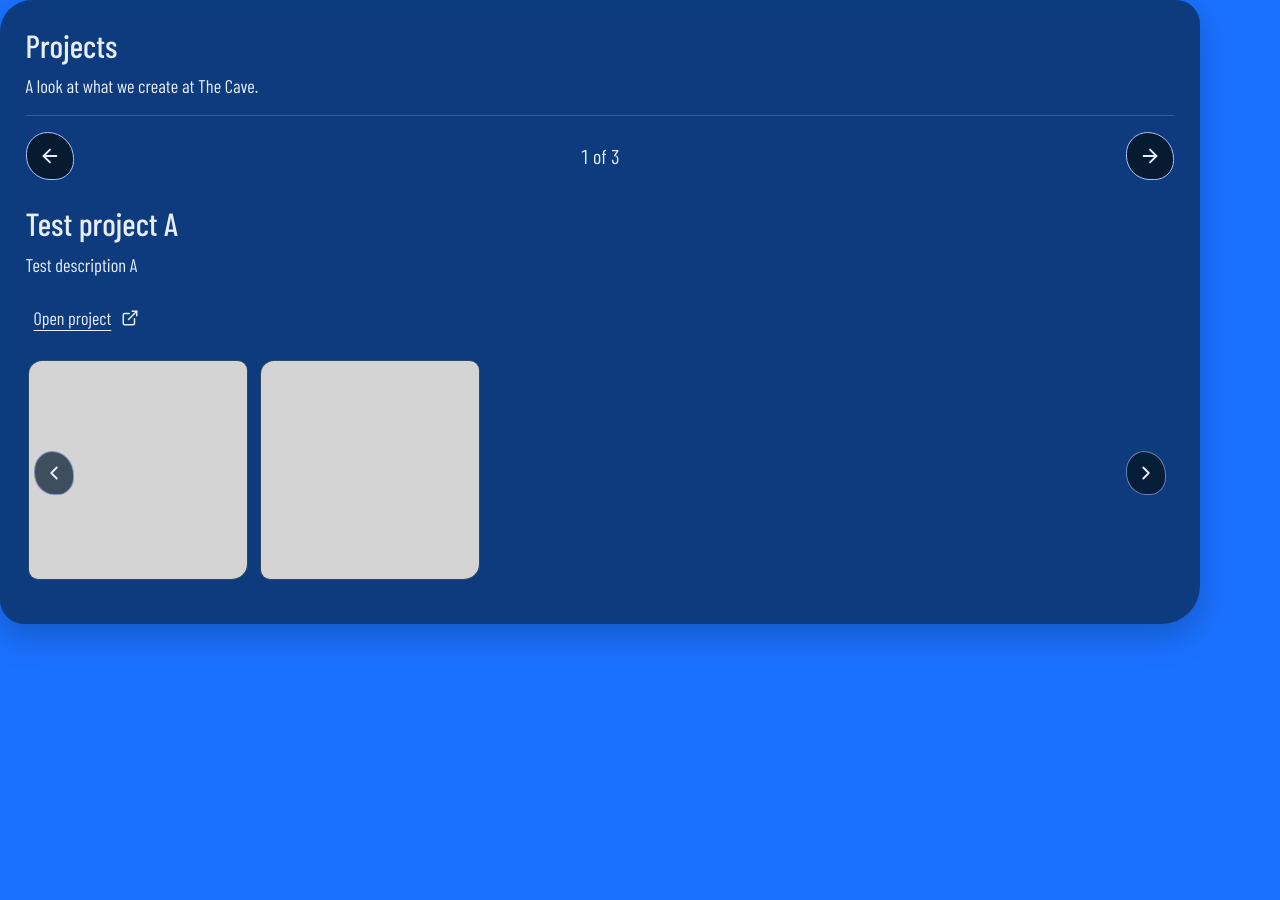
traduce títulos, descripciones y alternativas al inglés
The width and height of the screenshot is (1280, 900).
expect the heading "Projects" is shown: met, box [26,26,117,64]
expect the message reads "1 of 3": met, box [580,144,620,168]
Step 1. Click the button named "Next project" → click(1150, 156), box [1126,132,1174,180]
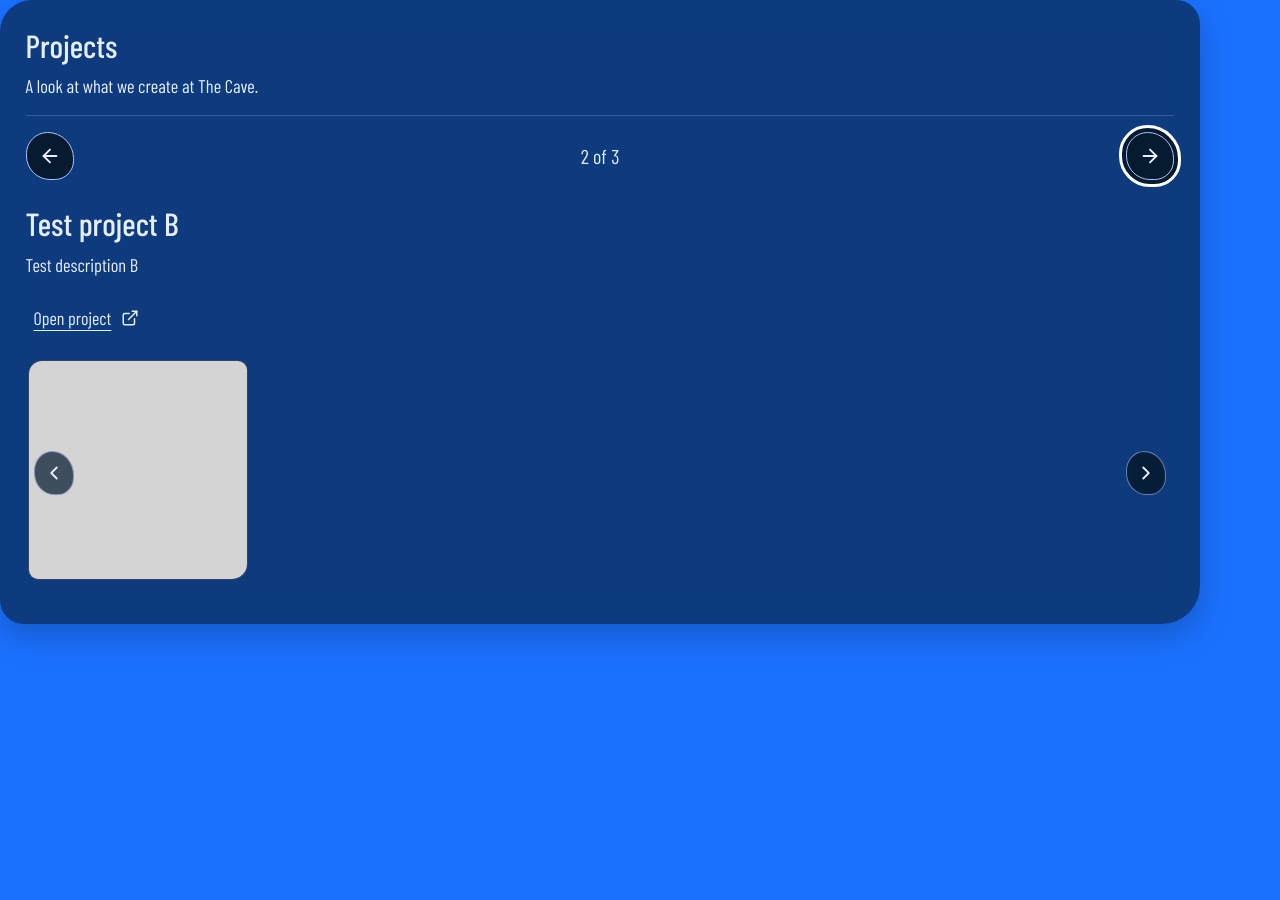
expect the heading "Test project B" is shown: met, box [26,204,178,242]
